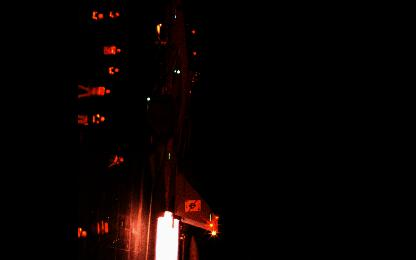EF2000: (137, 0, 220, 234)
F15: (172, 234, 209, 259)
